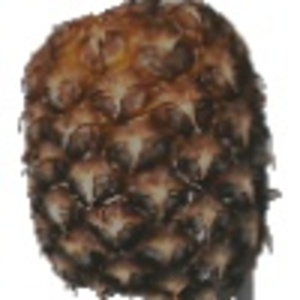abacaxi: (14, 2, 284, 297)
